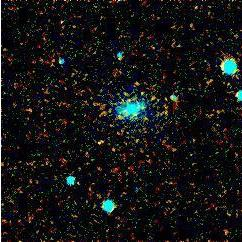star: (88, 123, 118, 153)
